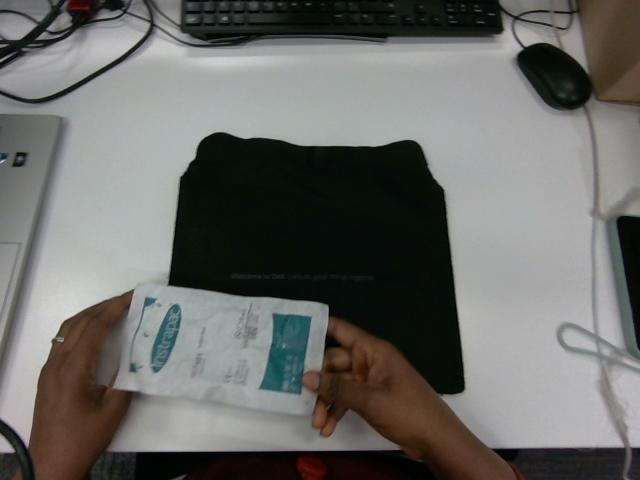gallipot: (117, 283, 328, 415)
